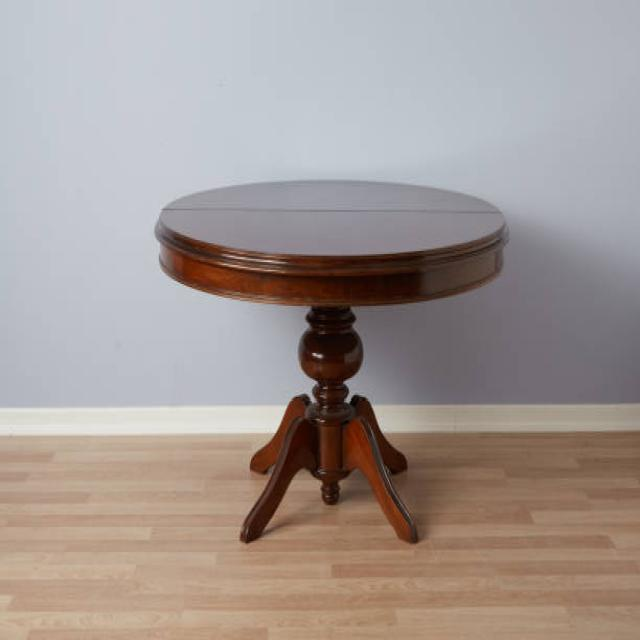table: (153, 178, 510, 544)
